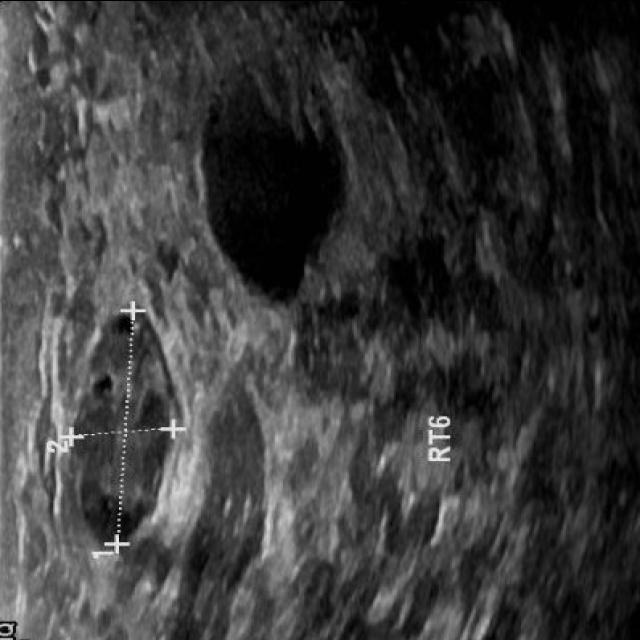Benign: (65, 314, 188, 538)
